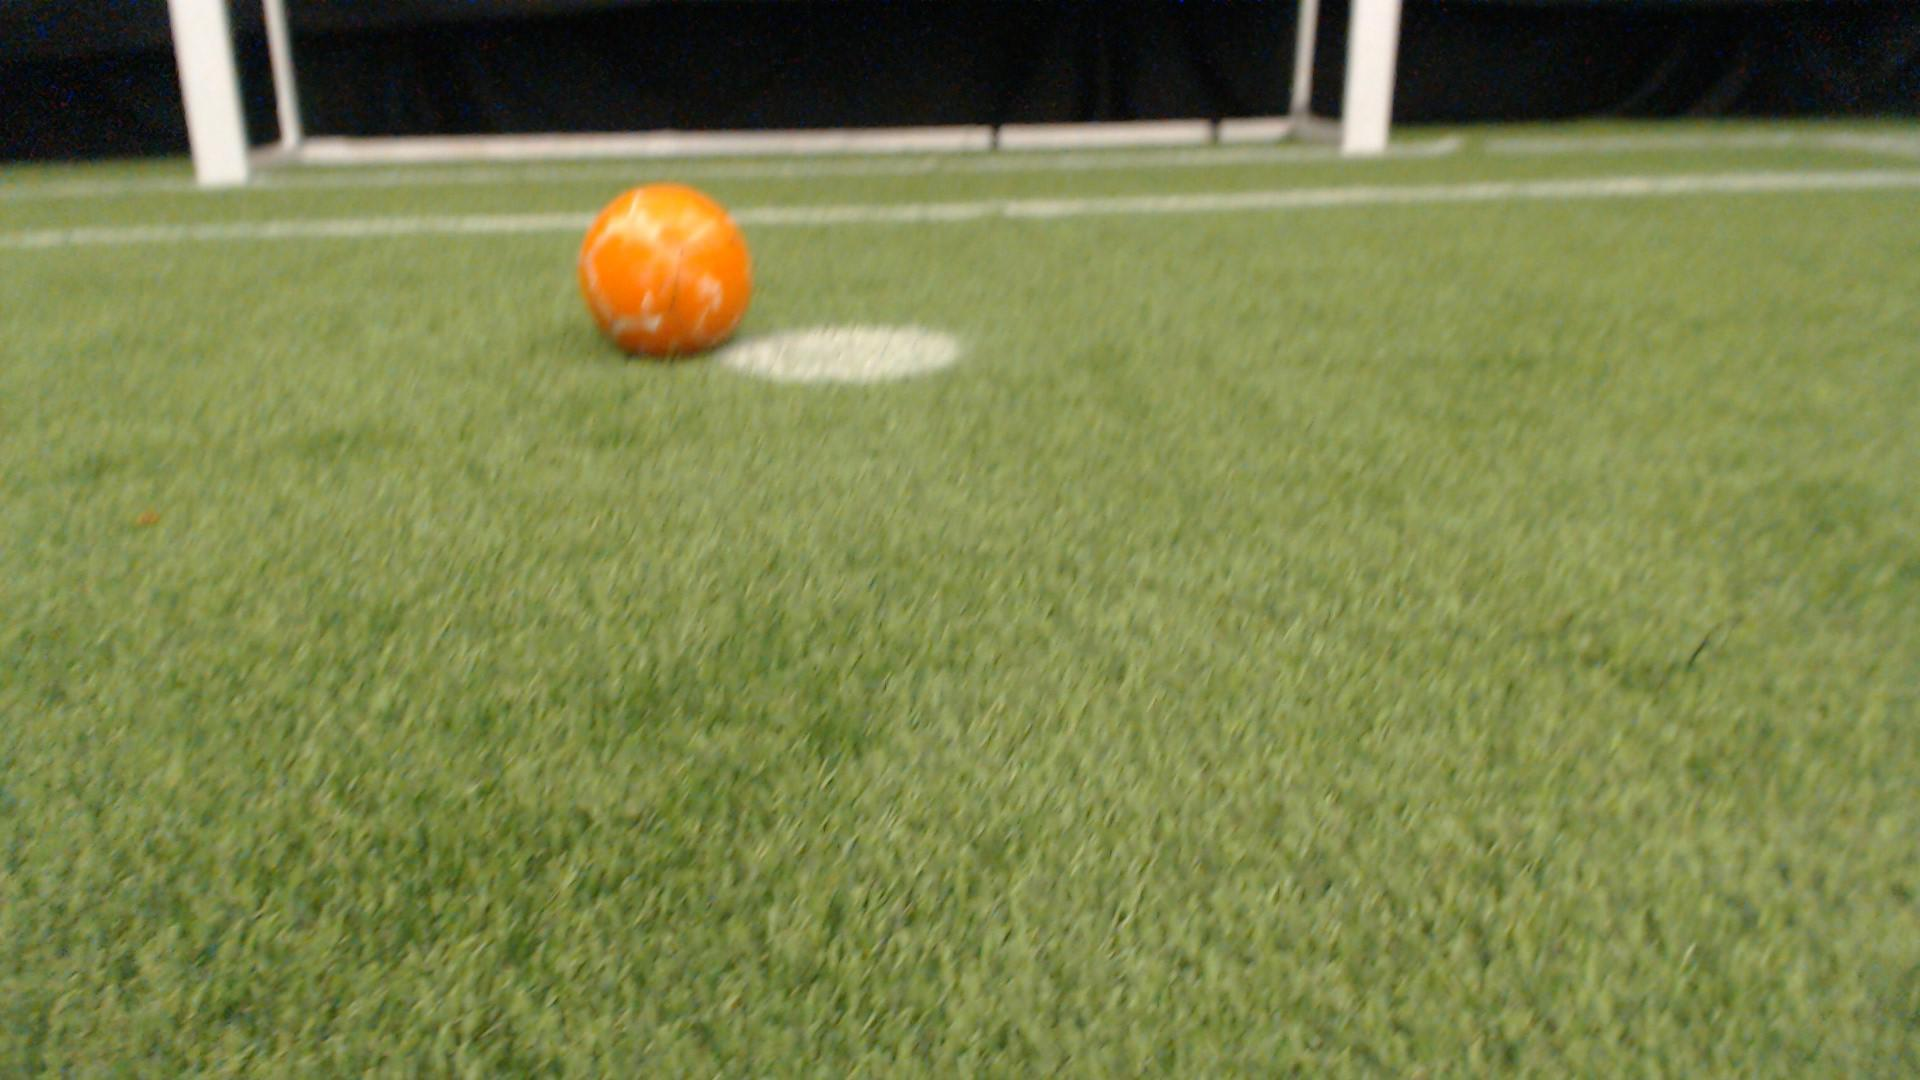bola: (564, 162, 777, 367)
